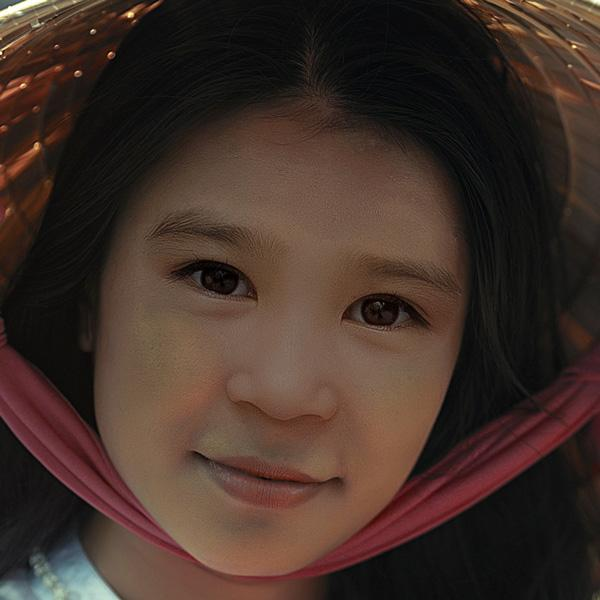Eyes: (331, 279, 436, 346), (162, 245, 264, 309)
